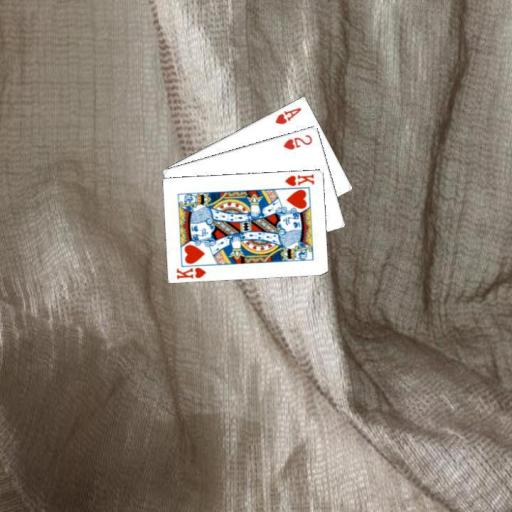2H: (280, 131, 314, 151)
AH: (272, 104, 303, 125)
KH: (282, 171, 316, 187), (174, 264, 208, 280)
